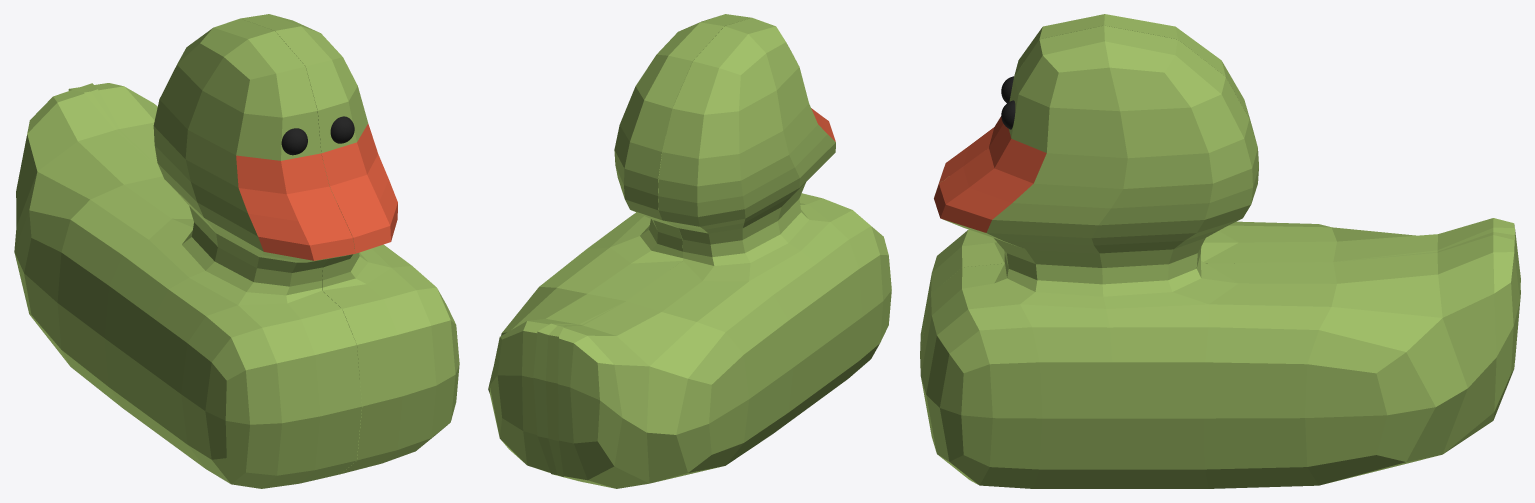
Rendered from PatitoVerde.fbx.
3 renders of one model, left to right at view 1: azimuth 30°, elevation 25°; view 2: azimuth 150°, elevation 25°; view 3: azimuth 270°, elevation 25°, orthographic. The views are drawn at different scales.
Parts seen in each view (by area): view 1: Cube.001; view 2: Cube.001; view 3: Cube.001.
Part boxes in pixels (x1=…): Cube.001: x1=14, y1=14, x2=459, y2=488; Cube.001: x1=488, y1=14, x2=891, y2=488; Cube.001: x1=920, y1=14, x2=1520, y2=488.
Bounding box in the file's own units: 298 × 460 × 595.
Materials: 1 (1 with a texture image).
